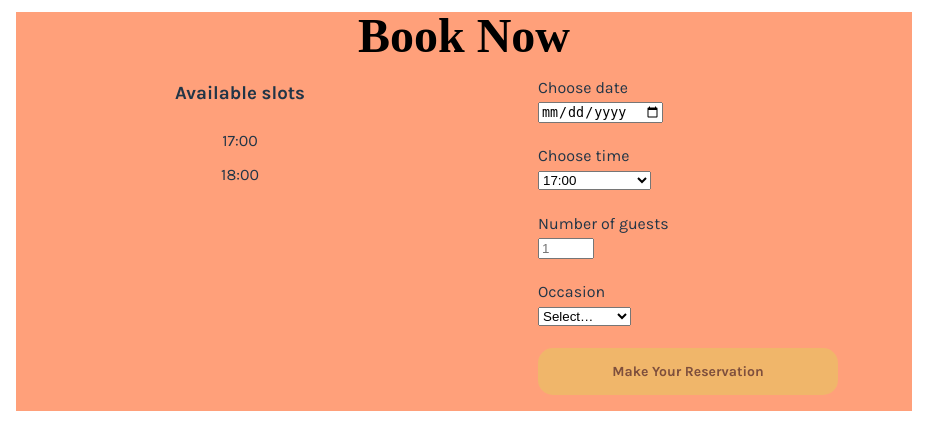
Test case: Reservations form validation › invalid guests keeps submit disabled; fixing it enables submit
Type "2025-09-11" into the date field labelled "Choose date" at (601, 112), box left=538, top=102, right=663, bottom=123
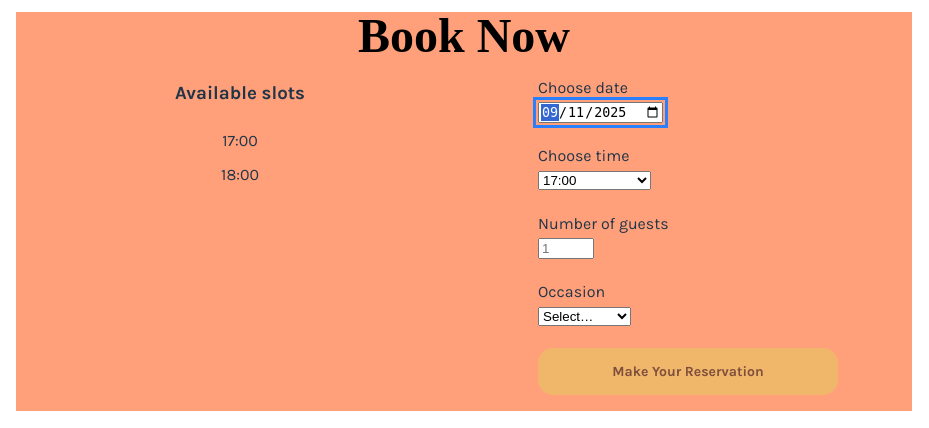
Select "Anniversary" in the dropdown labelled "Occasion" at (584, 316), box left=538, top=307, right=631, bottom=326
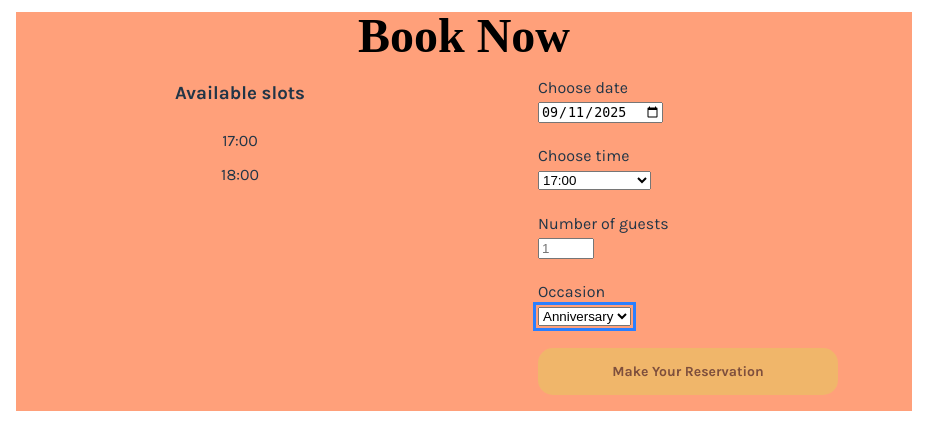
Type "0" into the number field labelled "Number of guests" at (566, 248), box left=538, top=238, right=594, bottom=259
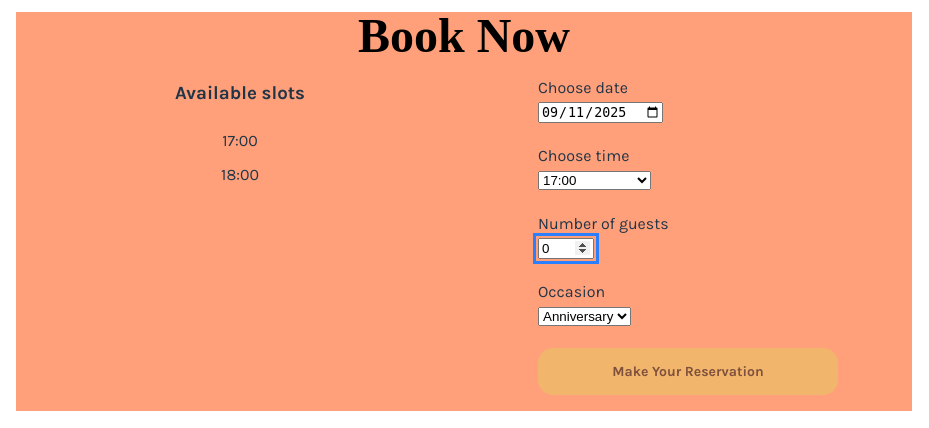
Check: the button "Make Your Reservation" is disabled, box left=538, top=348, right=838, bottom=395
Replace the text in the number field labelled "Number of guests" with "11" at (566, 248), box left=538, top=238, right=594, bottom=259
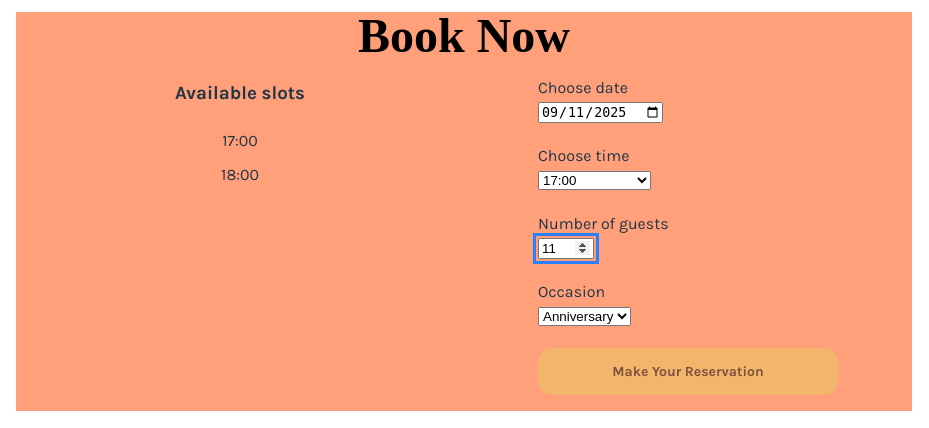
Check: the button "Make Your Reservation" is disabled, box left=538, top=348, right=838, bottom=395
Replace the text in the number field labelled "Number of guests" with "3" at (566, 248), box left=538, top=238, right=594, bottom=259
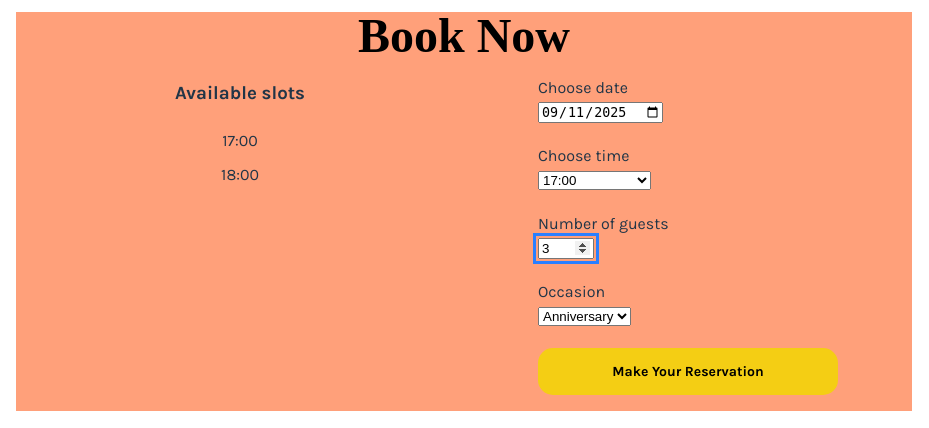
Check: the button "Make Your Reservation" is enabled, box left=538, top=348, right=838, bottom=395
